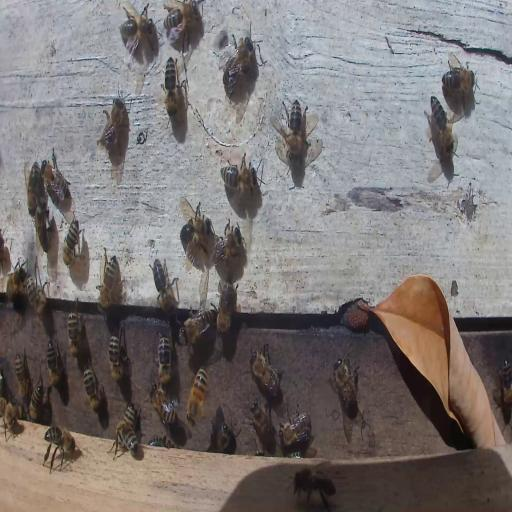nonpollenbee: (224, 27, 258, 89), (41, 423, 82, 473), (100, 91, 130, 152), (150, 257, 180, 316), (178, 200, 215, 246), (428, 95, 455, 158), (330, 354, 359, 410), (290, 466, 335, 502), (41, 149, 71, 203), (250, 346, 282, 396), (120, 4, 153, 52), (221, 157, 261, 196), (441, 60, 476, 100), (177, 306, 212, 346), (216, 220, 246, 266), (80, 363, 106, 415), (279, 410, 311, 447), (108, 324, 129, 380), (286, 98, 305, 159), (98, 249, 116, 312), (163, 52, 178, 125), (163, 3, 202, 31), (63, 215, 82, 270), (150, 385, 176, 425), (250, 394, 270, 444), (1, 397, 23, 441), (5, 259, 28, 301), (14, 350, 32, 403), (46, 336, 63, 391), (34, 195, 50, 253), (217, 282, 234, 336), (24, 159, 40, 214), (26, 274, 47, 314), (116, 425, 142, 457), (158, 330, 172, 386), (500, 357, 511, 415), (29, 380, 44, 421), (68, 312, 81, 358), (119, 403, 137, 435), (216, 420, 234, 452), (147, 434, 171, 448)
pollenbee: (183, 359, 207, 426)
